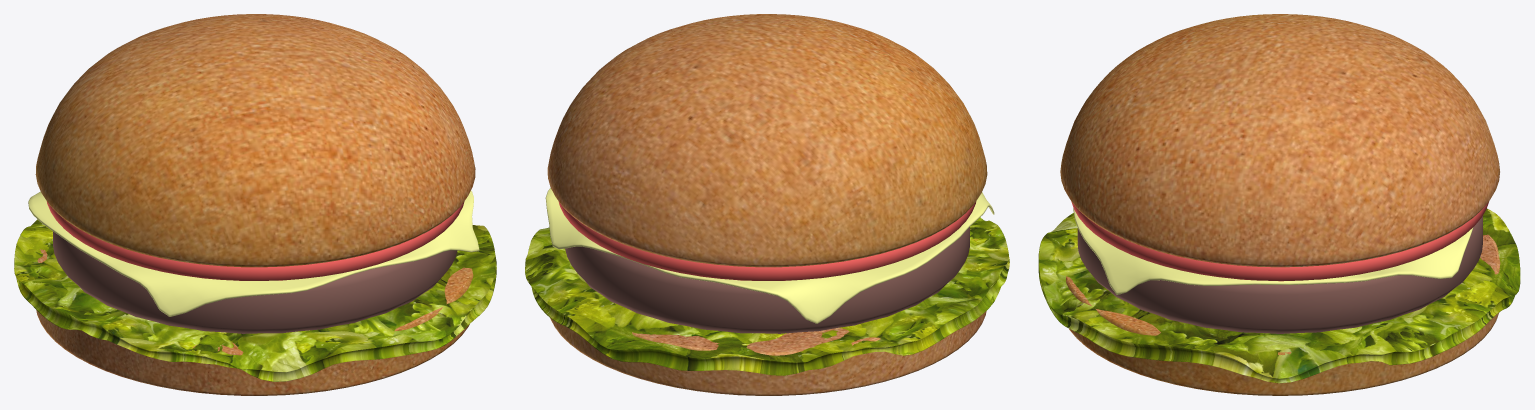
Rendered from Burger.gltf.
The picture shows the model from 3 angles, left to right: view 1: azimuth 30°, elevation 25°; view 2: azimuth 150°, elevation 25°; view 3: azimuth 270°, elevation 25°; orthographic projection.
Parts seen in each view (by area): view 1: UpperPurger, Lectus, Patty, BottomBread, cheese, tomato; view 2: UpperPurger, Lectus, Patty, BottomBread, cheese, tomato; view 3: UpperPurger, Lectus, Patty, BottomBread, cheese, tomato.
Boxes of the visible parts, bbox=[...] form: UpperPurger: bbox=[35, 14, 475, 267]; Lectus: bbox=[14, 219, 496, 381]; Patty: bbox=[53, 231, 457, 333]; BottomBread: bbox=[36, 249, 473, 395]; cheese: bbox=[28, 190, 479, 316]; tomato: bbox=[46, 201, 464, 280]; UpperPurger: bbox=[547, 14, 987, 267]; Lectus: bbox=[525, 217, 1009, 375]; Patty: bbox=[565, 227, 969, 333]; BottomBread: bbox=[550, 229, 986, 395]; cheese: bbox=[545, 188, 994, 323]; tomato: bbox=[558, 201, 976, 280]; UpperPurger: bbox=[1060, 14, 1499, 267]; Lectus: bbox=[1038, 208, 1520, 383]; Patty: bbox=[1077, 216, 1482, 333]; BottomBread: bbox=[1066, 234, 1500, 395]; cheese: bbox=[1073, 208, 1473, 294]; tomato: bbox=[1071, 201, 1488, 281].
Bounding box in the file's own units: 1.48 × 0.8726 × 1.47.
5 materials, 2 textured.
